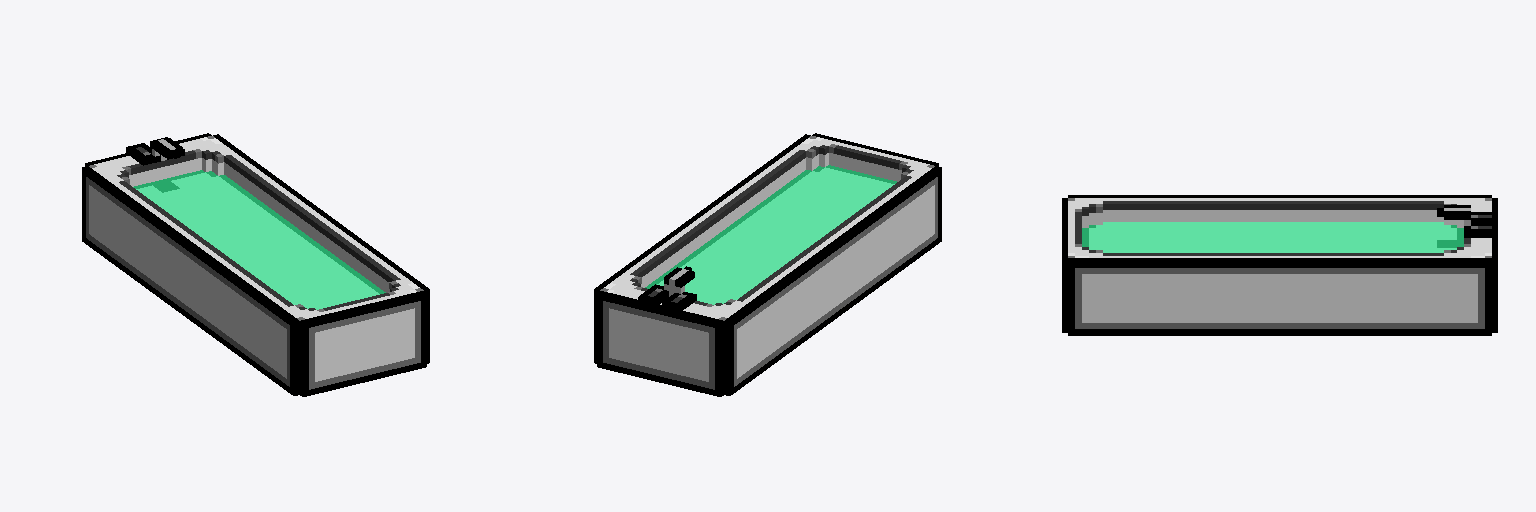
The picture shows the model from 3 angles: view 1: azimuth 30°, elevation 25°; view 2: azimuth 150°, elevation 25°; view 3: azimuth 270°, elevation 25°; orthographic projection.
Parts seen in each view (by area): view 1: BathTub.002; view 2: BathTub.002; view 3: BathTub.002.
Part boxes in pixels (left/top/right/bottom): BathTub.002: left=82, top=133, right=429, bottom=396; BathTub.002: left=594, top=133, right=941, bottom=396; BathTub.002: left=1062, top=195, right=1497, bottom=335.
Size of the model in its own units: 2.3 by 1.5 by 6.4.
Materials: 1 (1 with a texture image).